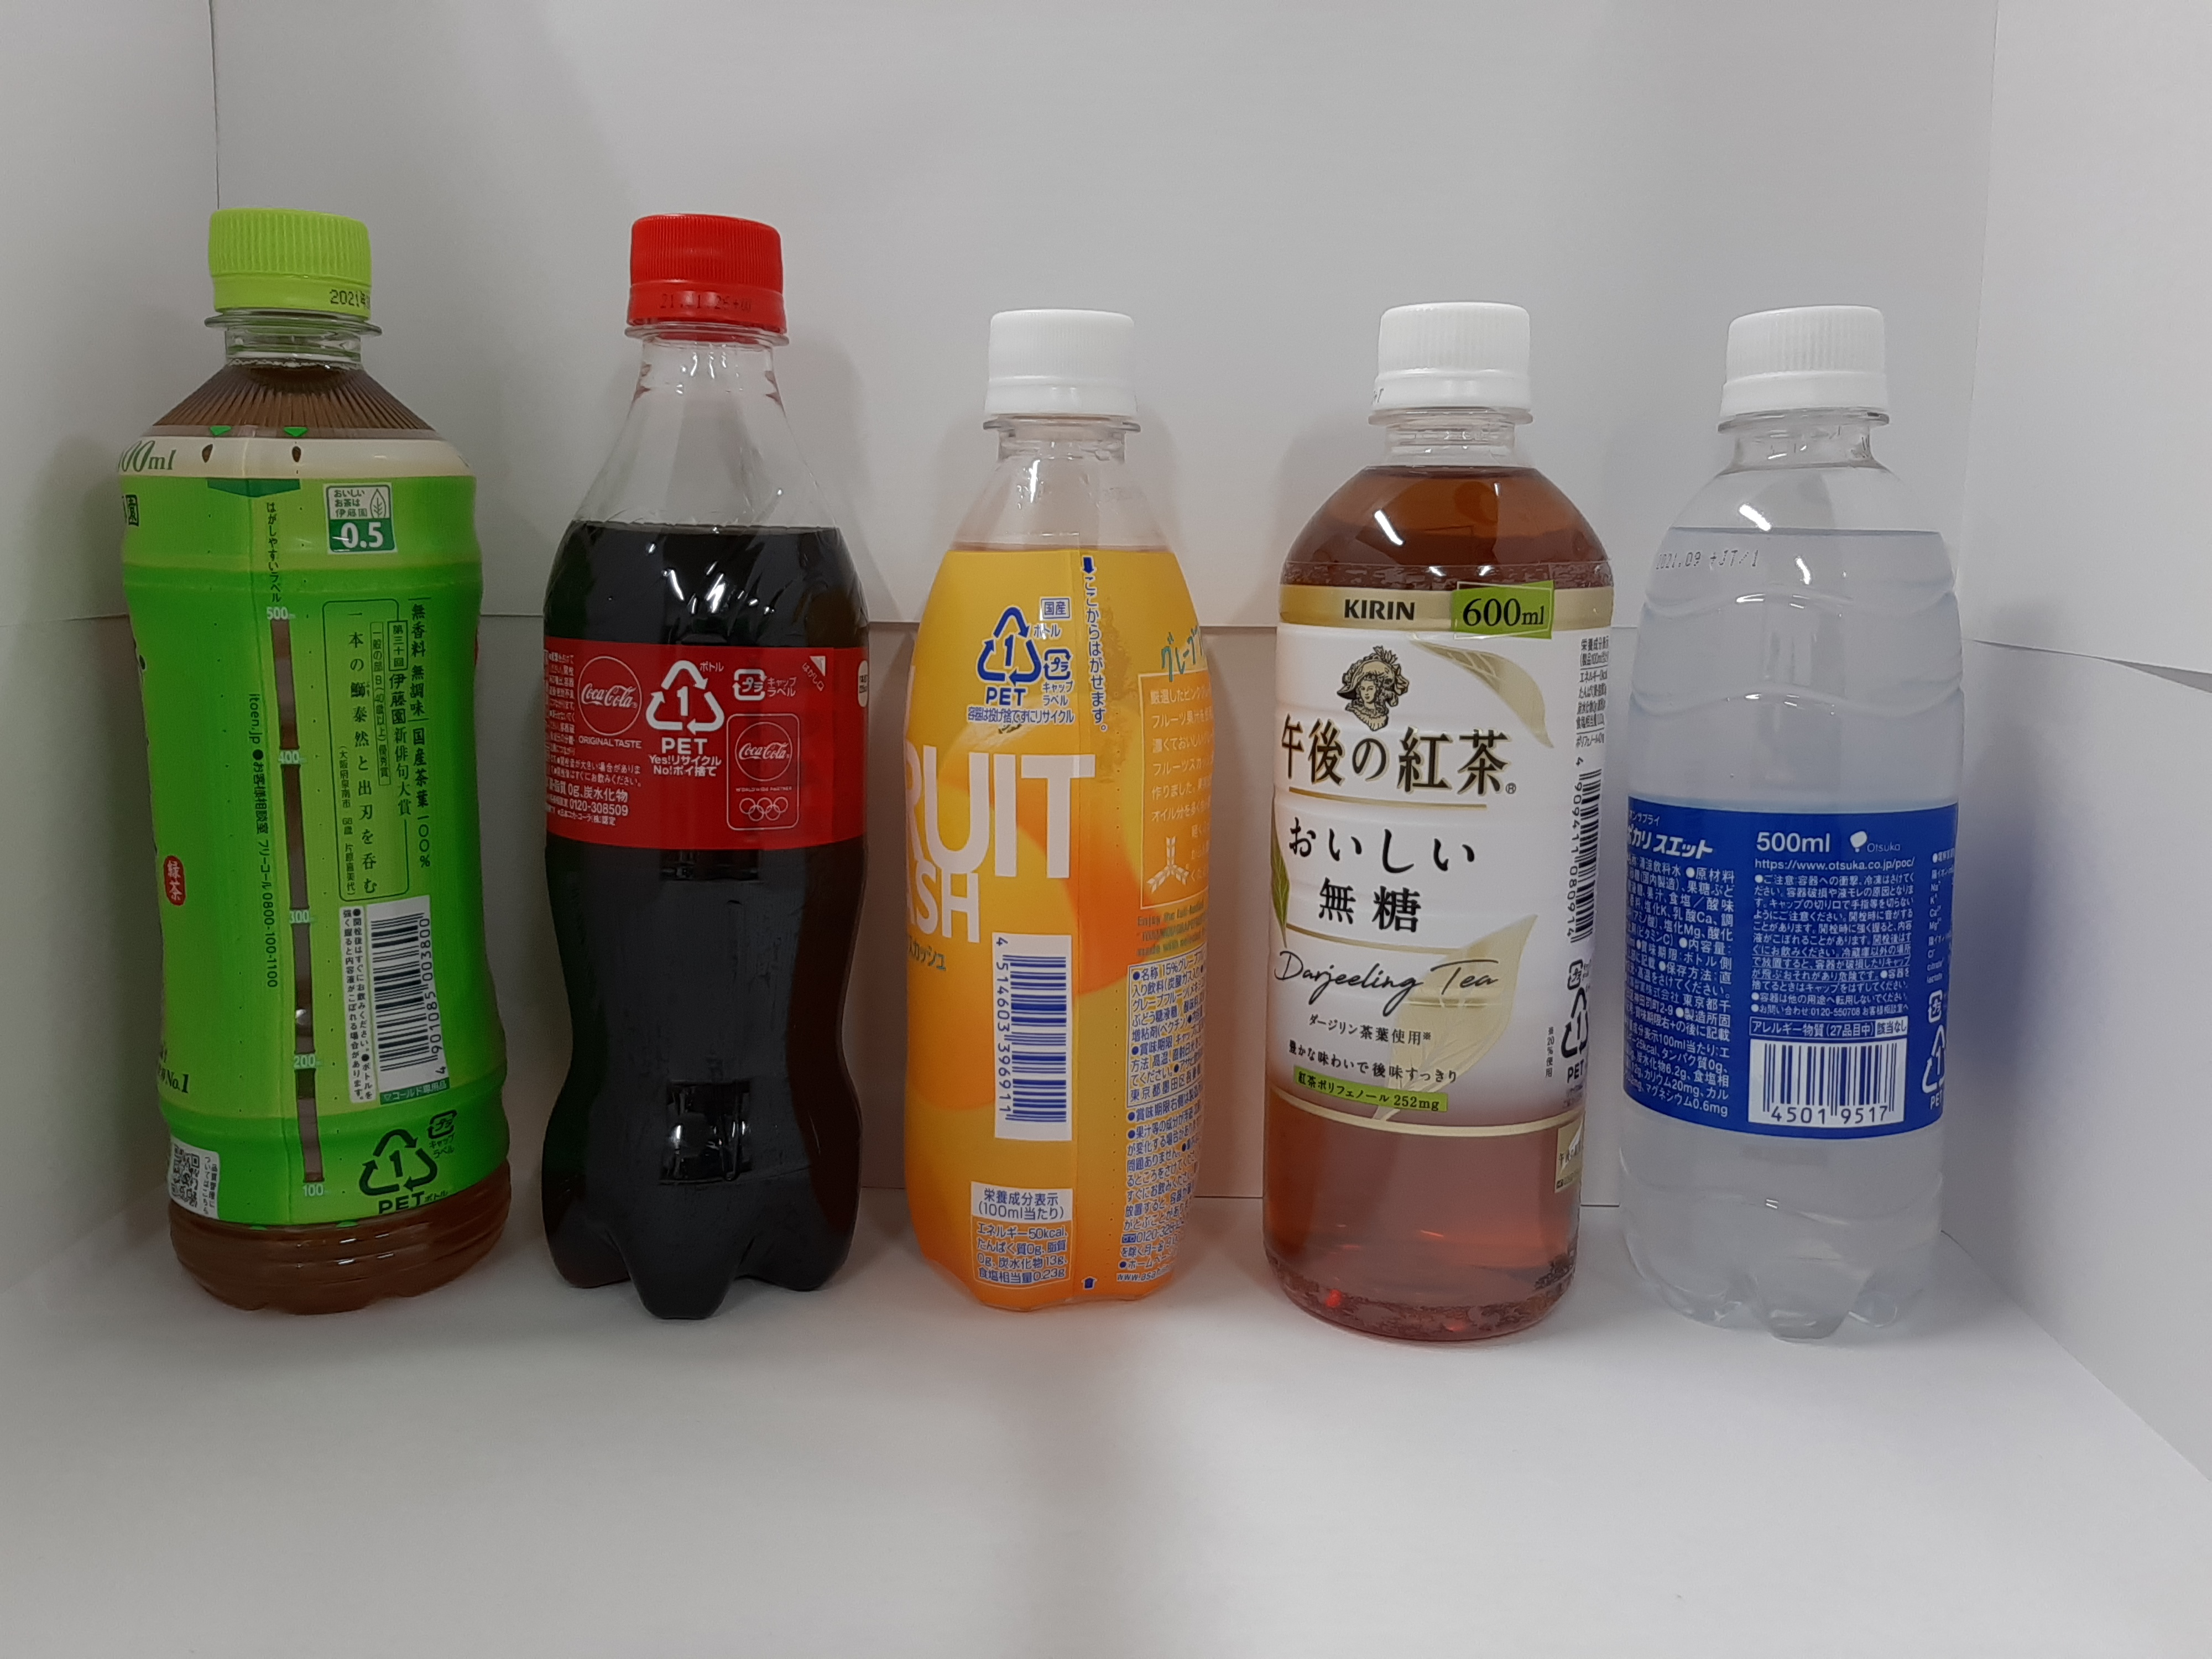おーいお茶: (57, 183, 526, 1342)
グレープフルーツスカッシュ: (880, 282, 1251, 1337)
コーラ: (519, 197, 894, 1340)
ポカリスエット: (1615, 282, 1994, 1361)
午後の紅茶: (1252, 275, 1629, 1364)
